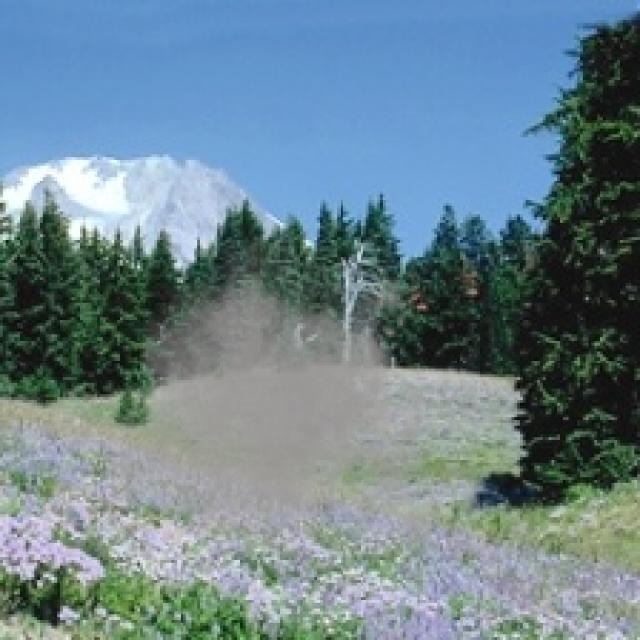Smoke: (102, 217, 448, 603)
